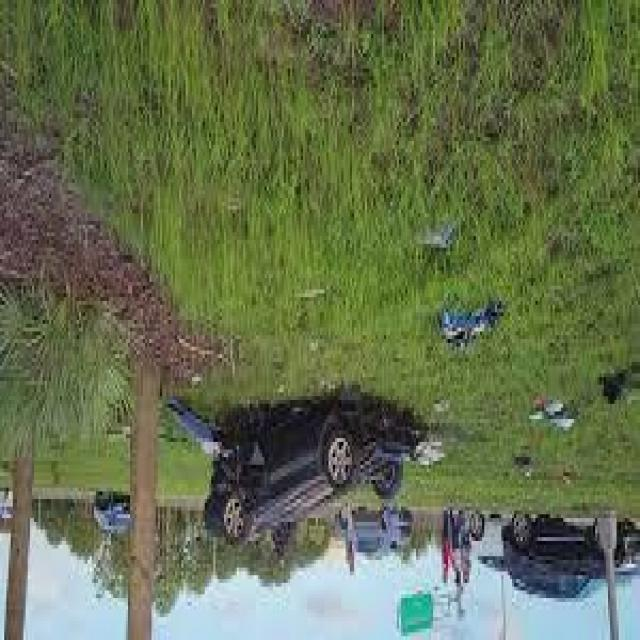severe: (198, 390, 431, 566)
